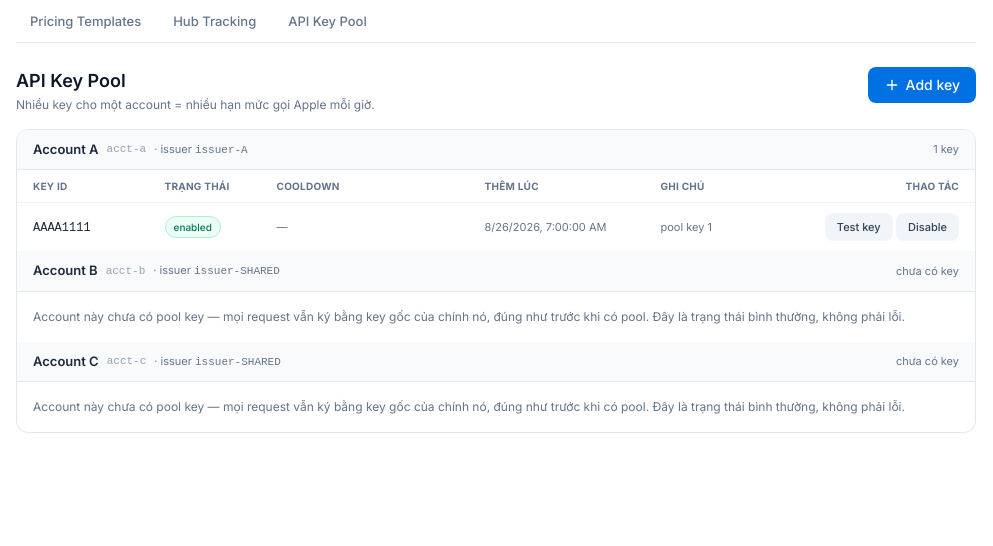
Test: ⚠ (d) Test key never shows success for a non-success › ⚠ a 503 is 'not verified', NOT 'wrong key'
Expected: the row with test id "key-row-AAAA1111" is shown, [17, 202, 975, 251]
What coordinates should you click on to do the following:
click the button with test id "test-AAAA1111"
I would click on:
 (859, 227)
Its box is [825, 213, 893, 241].
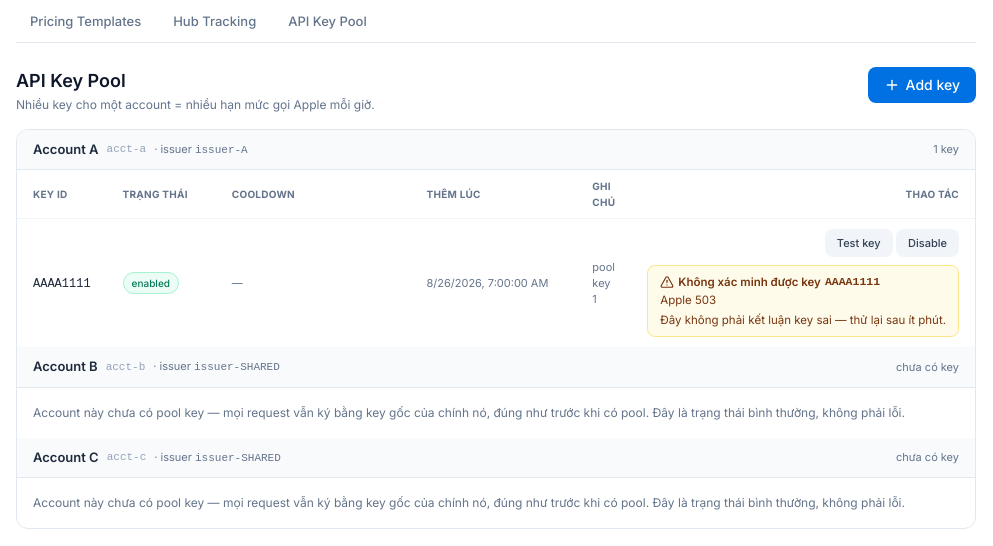
Expected: the element with test id "test-unknown" shows "không phải kết luận key sai", [660, 313, 946, 327]
